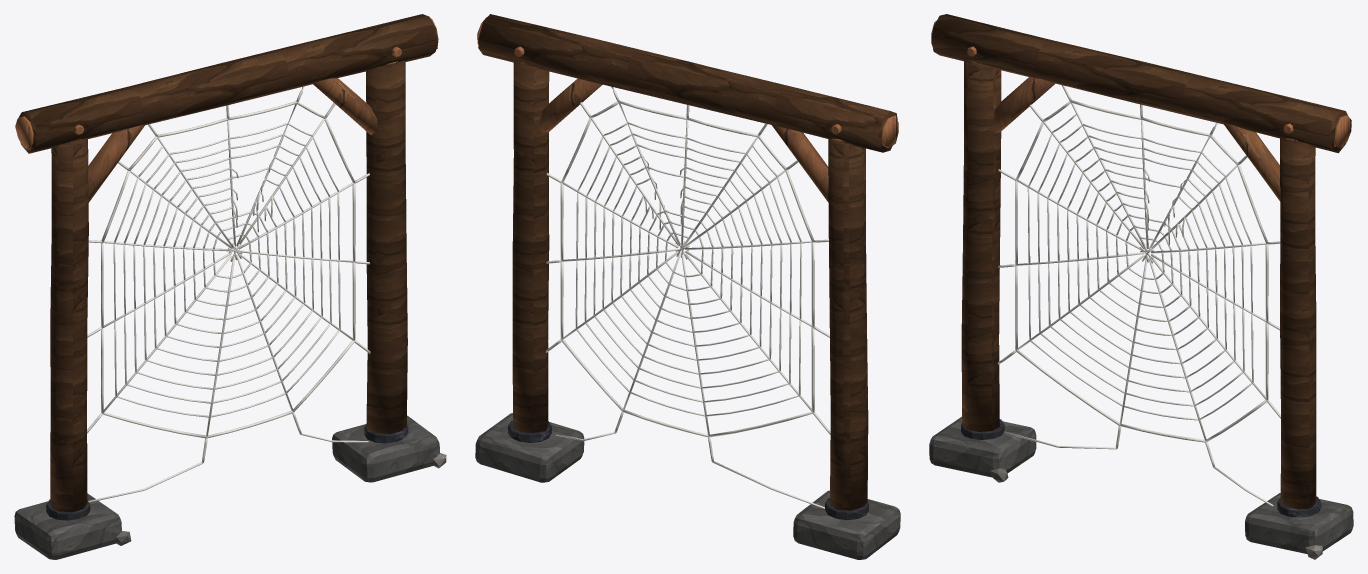
File: cobweb_beams.glb
The picture shows the model from 3 angles, left to right: view 1: azimuth 30°, elevation 25°; view 2: azimuth 150°, elevation 25°; view 3: azimuth 330°, elevation 25°; orthographic projection.
Parts seen in each view (by area): view 1: model; view 2: model; view 3: model.
Boxes of the visible parts, x1,y1,x2,y2 form: model: (14, 14, 446, 559); model: (475, 14, 900, 559); model: (929, 14, 1353, 559).
Bounding box in the file's own units: 1.66 × 1.72 × 0.2996.
7 materials, 6 textured.
